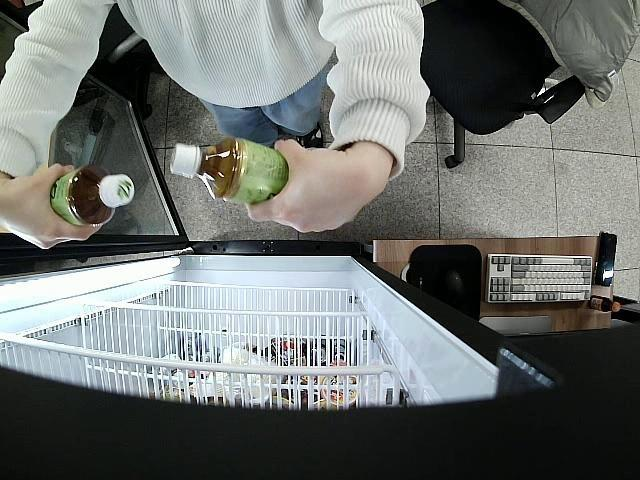19_17cha: (171, 136, 290, 206), (48, 167, 134, 228)
